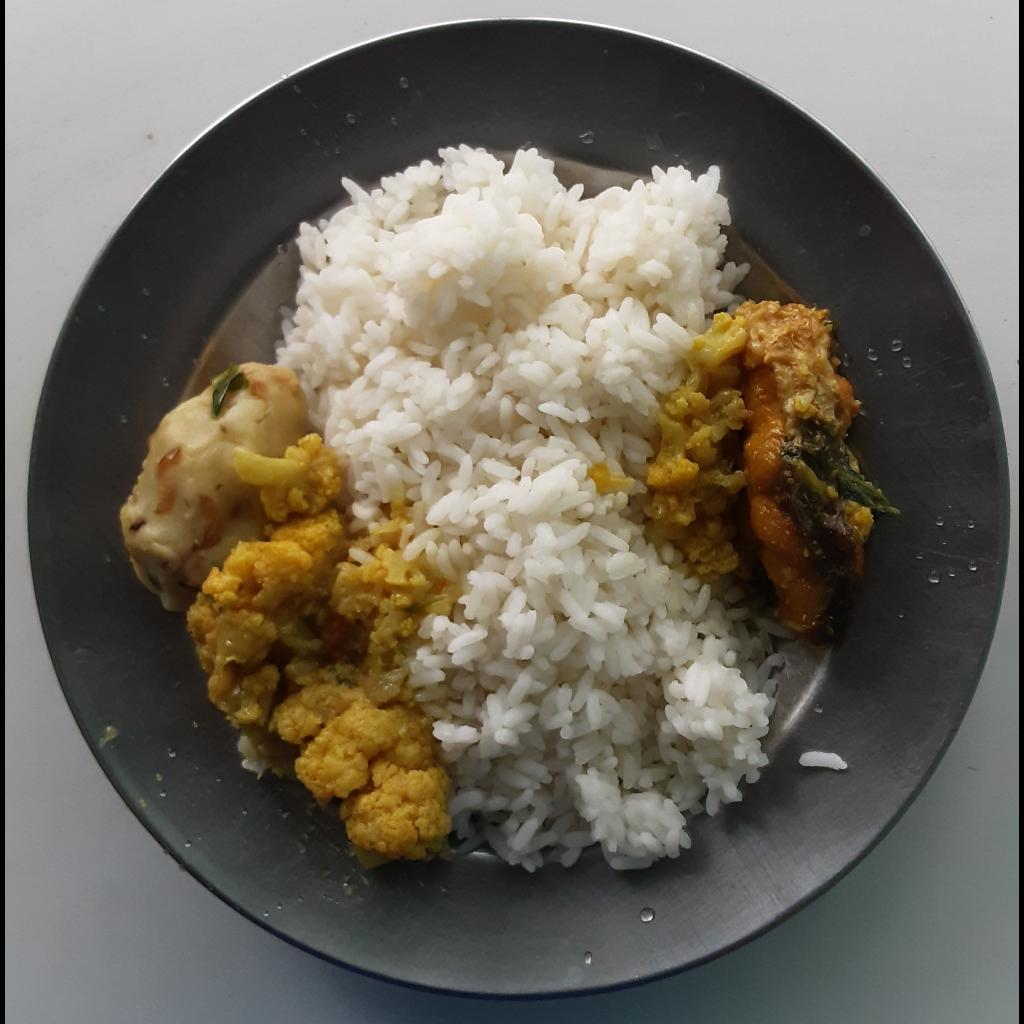cauliflower: (183, 428, 469, 865), (647, 299, 754, 586)
fish: (737, 301, 896, 647)
potato-mashed: (123, 358, 314, 613)
rice: (276, 146, 781, 870)
